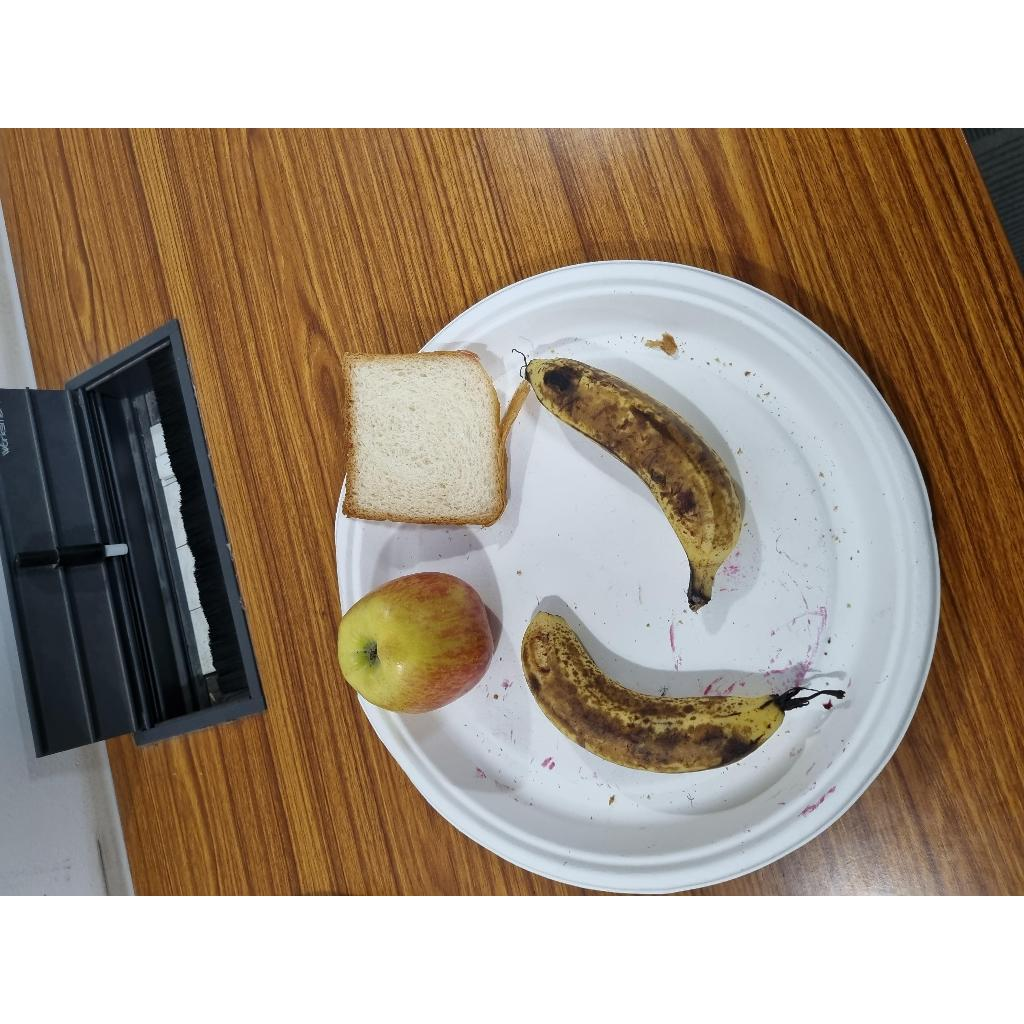apple: (337, 573, 503, 716)
banana: (527, 358, 745, 600), (521, 612, 785, 774)
